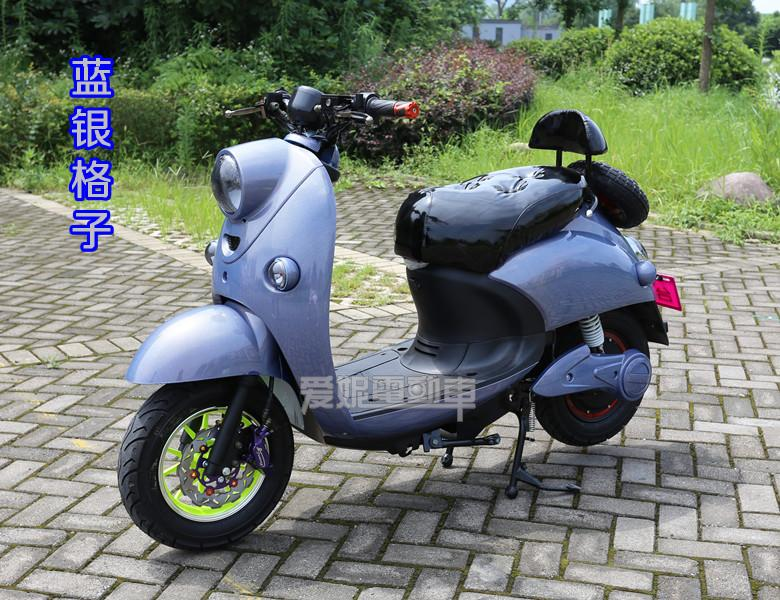电动车: (111, 77, 686, 558)
